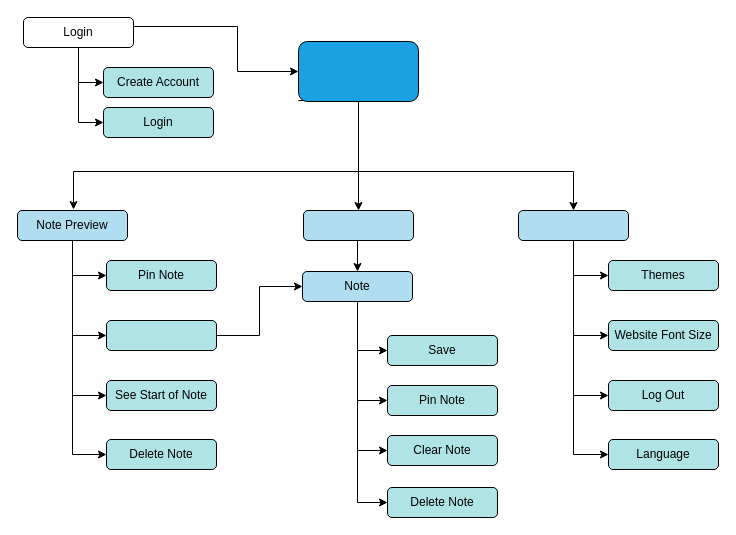
The diagram is 736 pixels wide and 535 high, and some of its shapes have lost their labels. The shapes that lost their labels are listed below. From the top down, each one's centre as x and y in pixels, then its label:
At point (358, 71): "Home".
At point (358, 225): "New Note".
At point (573, 225): "Settings".
At point (161, 335): "Edit Note".
